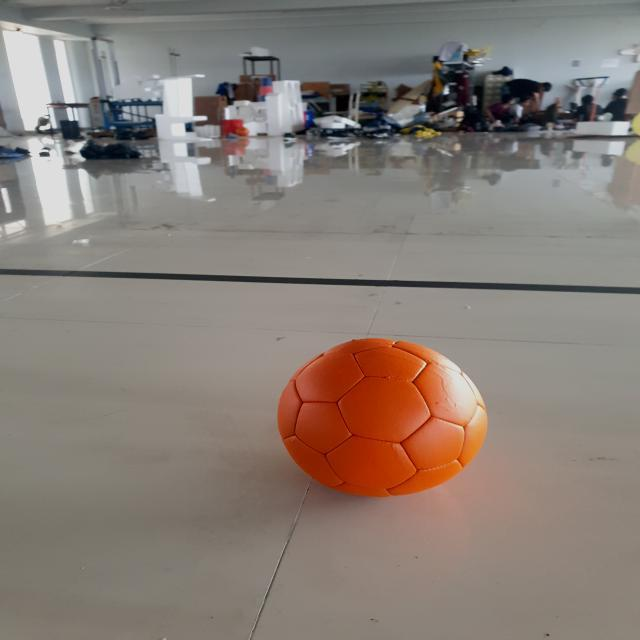bola: (270, 324, 498, 506)
